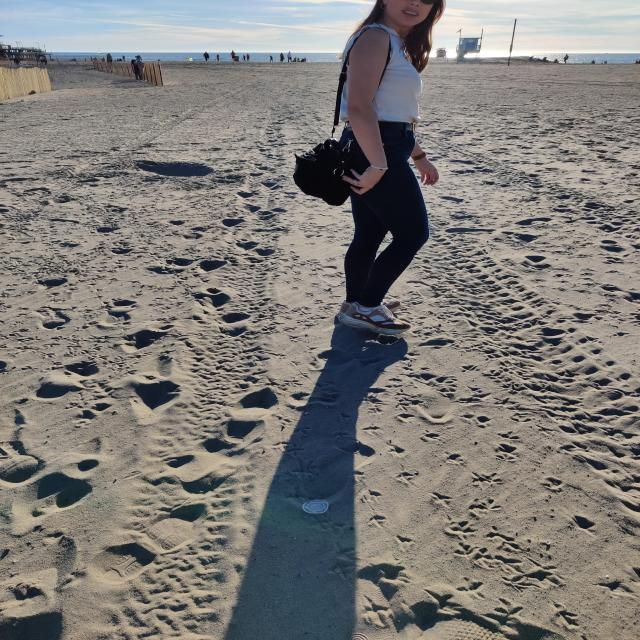litter: (302, 499, 329, 514)
